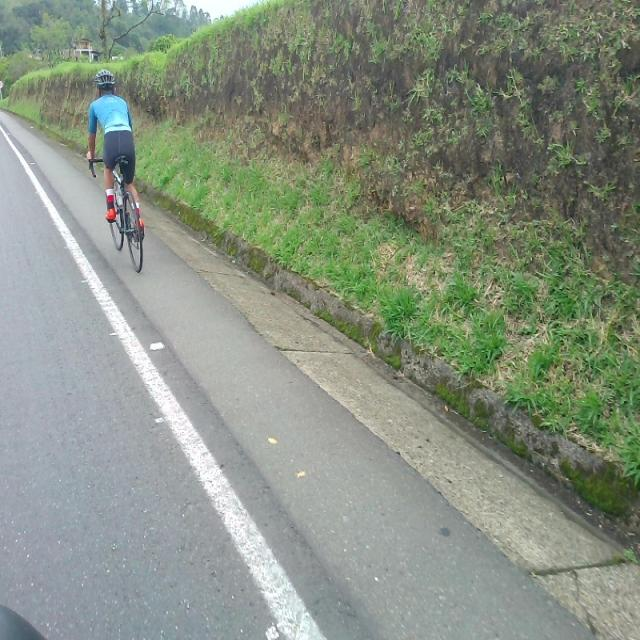DITCH: (2, 106, 637, 639)
